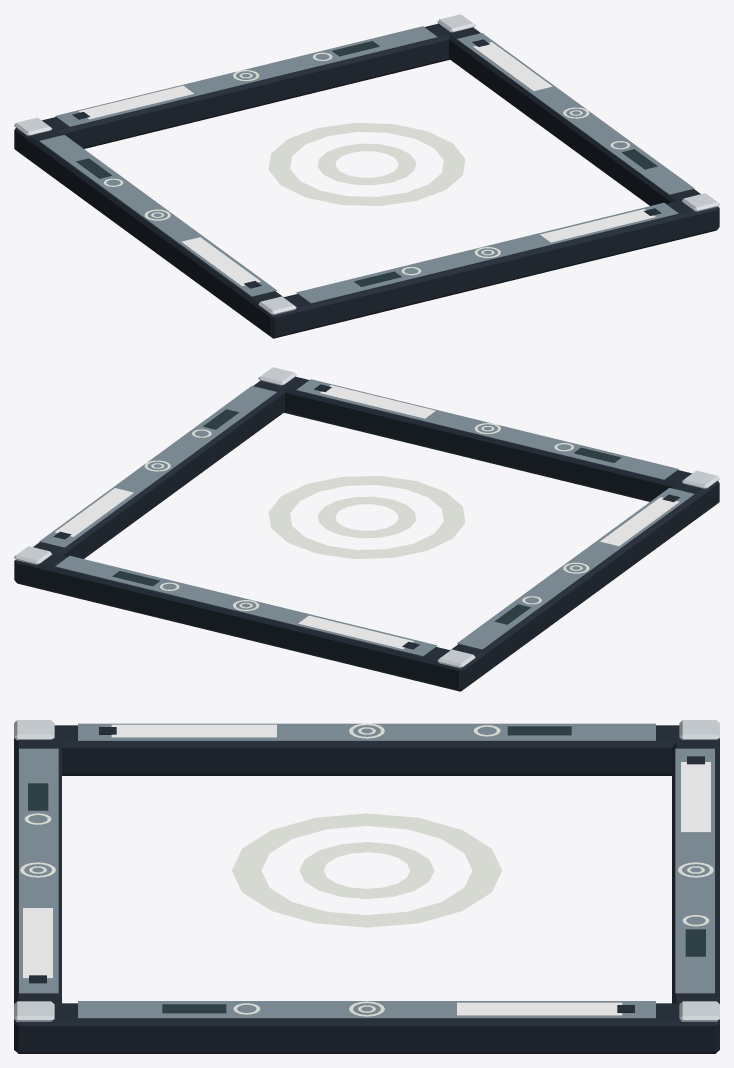
File: GoalSocket.fbx
3 views of the same model, one above another, from view 1: azimuth 30°, elevation 25°; view 2: azimuth 150°, elevation 25°; view 3: azimuth 270°, elevation 25° (orthographic). The views are drawn at different scales.
Parts seen in each view (by area): view 1: Rim.008, TargetRings, IdentityBands, PowerLamps; view 2: Rim.008, TargetRings, IdentityBands, PowerLamps; view 3: Rim.008, TargetRings, IdentityBands, PowerLamps.
Part boxes in pixels (x1=…): Rim.008: x1=14, y1=14, x2=719, y2=338; TargetRings: x1=144, y1=70, x2=589, y2=257; IdentityBands: x1=72, y1=39, x2=661, y2=288; PowerLamps: x1=76, y1=41, x2=657, y2=286; Rim.008: x1=14, y1=367, x2=719, y2=691; TargetRings: x1=144, y1=423, x2=589, y2=610; IdentityBands: x1=53, y1=384, x2=680, y2=649; PowerLamps: x1=112, y1=409, x2=621, y2=624; Rim.008: x1=14, y1=720, x2=719, y2=1053; TargetRings: x1=20, y1=723, x2=713, y2=1016; IdentityBands: x1=23, y1=724, x2=710, y2=1015; PowerLamps: x1=24, y1=725, x2=709, y2=1014.
Bounding box in the file's own units: 0.94 × 0.057 × 0.94.
